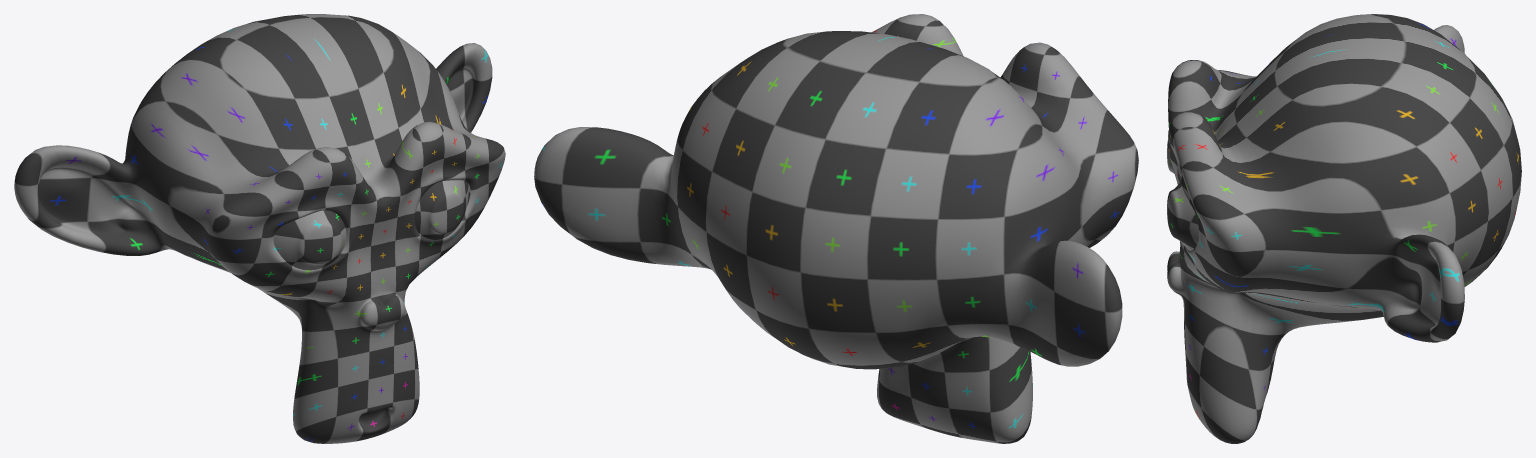
Rendered from suzanne.glb.
3 views of the same model, side by side, from view 1: azimuth 30°, elevation 25°; view 2: azimuth 150°, elevation 25°; view 3: azimuth 270°, elevation 25° (orthographic). The views are drawn at different scales.
Visible parts, largest first — view 1: Suzanne; view 2: Suzanne; view 3: Suzanne.
Part boxes in pixels (box(x1,y1,x2,y2)): Suzanne: box(14, 14, 505, 443); Suzanne: box(534, 14, 1138, 443); Suzanne: box(1167, 14, 1521, 443).
Size of the model in its own units: 2.66 by 1.91 by 1.6.
1 material, 1 textured.
